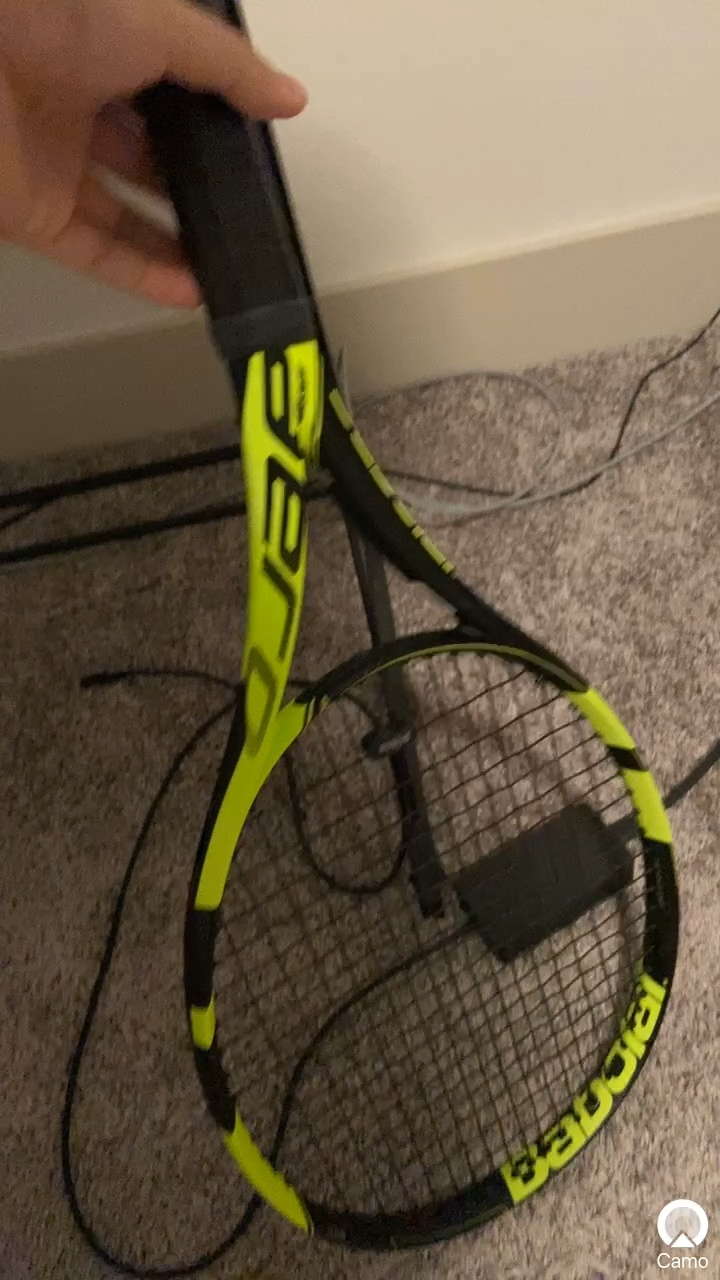Tennis_Racquet: (124, 1, 695, 1256)
